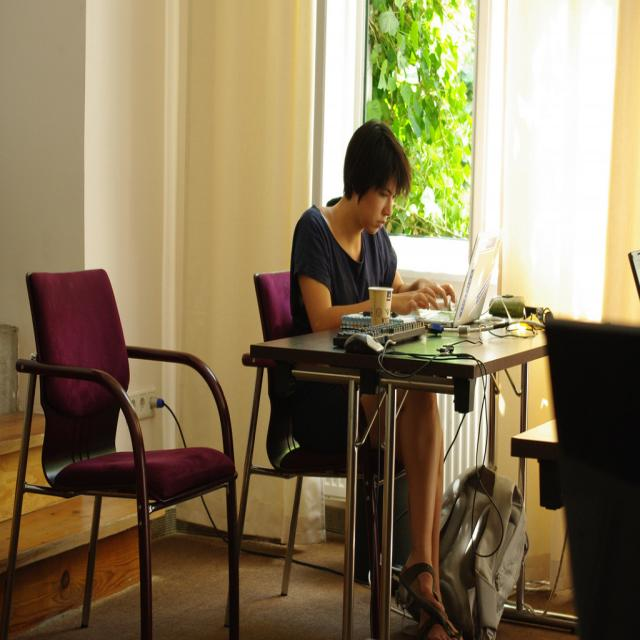chair: (3, 269, 238, 636), (237, 268, 365, 635)
desk: (250, 308, 548, 639)
laptop: (544, 316, 640, 488), (412, 230, 502, 327), (627, 250, 640, 301)
person: (268, 122, 458, 632)
